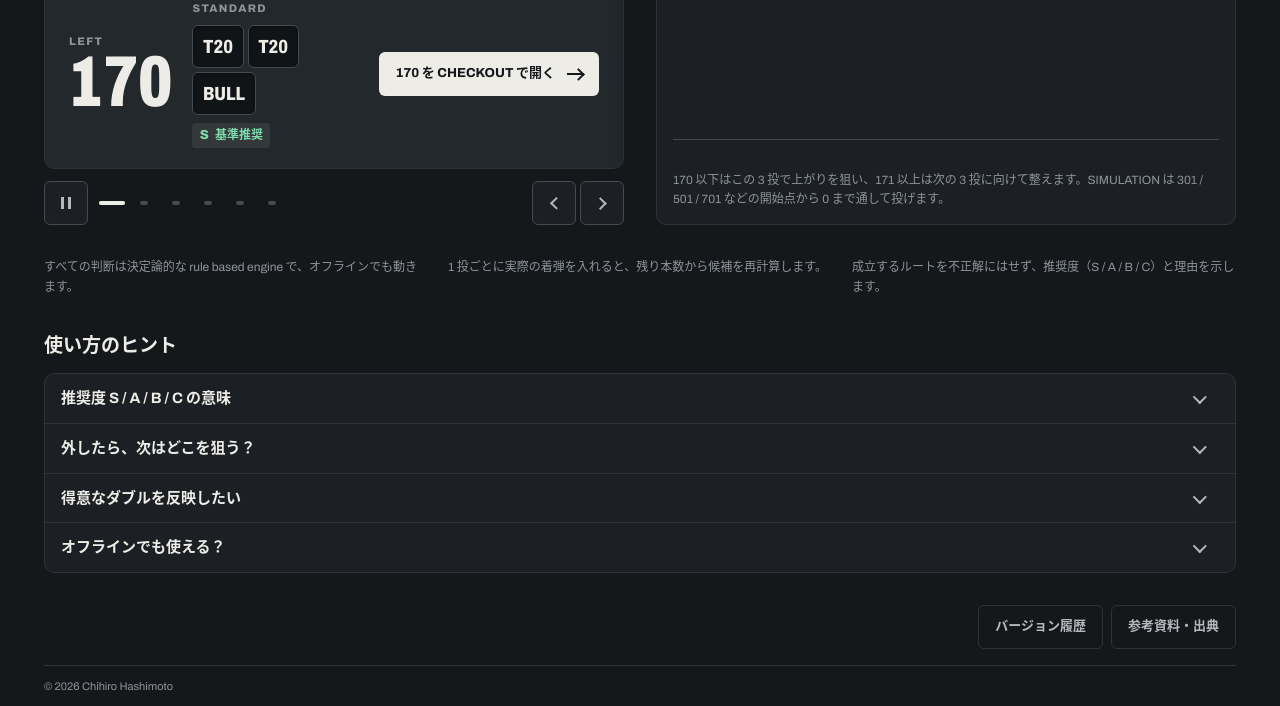
Test: 参考資料・出典 › 押すと参考資料ページが開き、分類ごとに並ぶ
(page scrolled)
Click the button with test id "home-references" at {"x": 1174, "y": 627}, box left=1111, top=605, right=1236, bottom=649
(page scrolled)
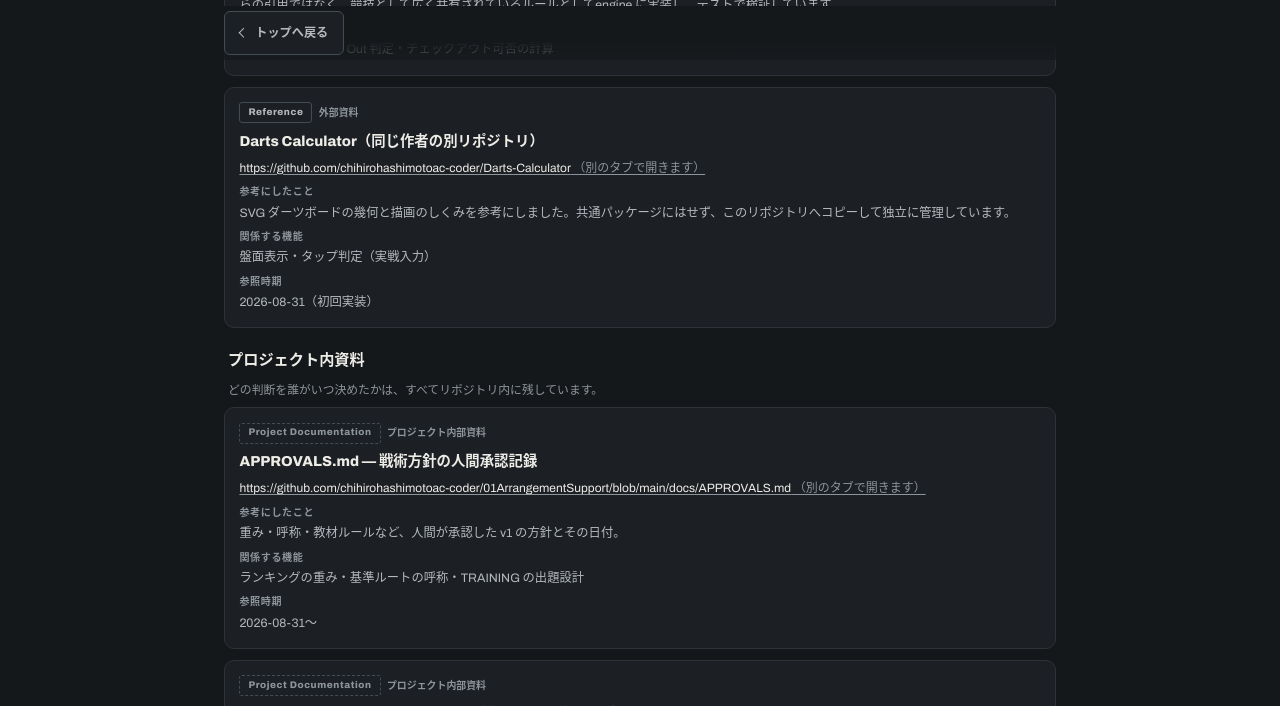
Result: the heading "プロジェクト内資料" is shown at left=228, top=352, right=365, bottom=368
Result: the number of elements with test id "references-item" is 13
